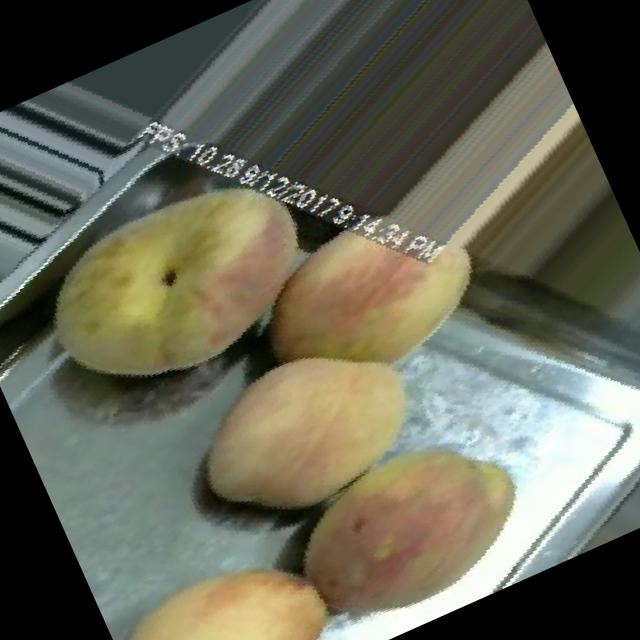Fruit: (0, 104, 377, 461), (142, 284, 471, 570), (216, 150, 536, 438), (247, 388, 568, 640), (93, 506, 364, 640)
